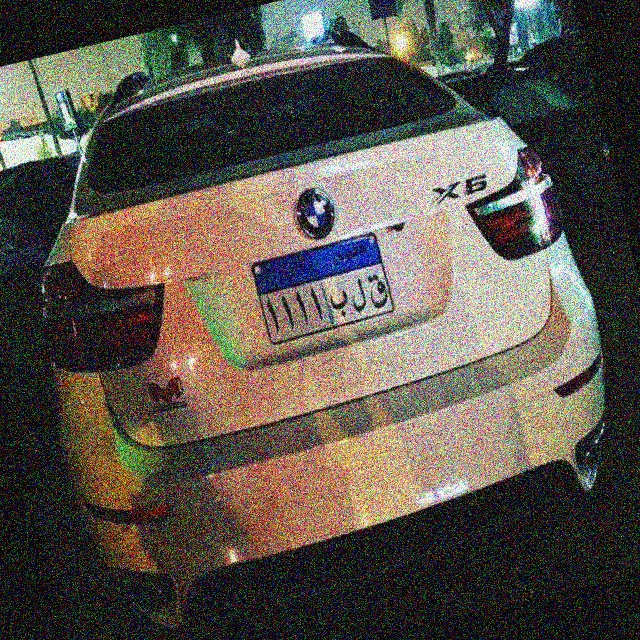License Plate: (248, 228, 399, 350)
